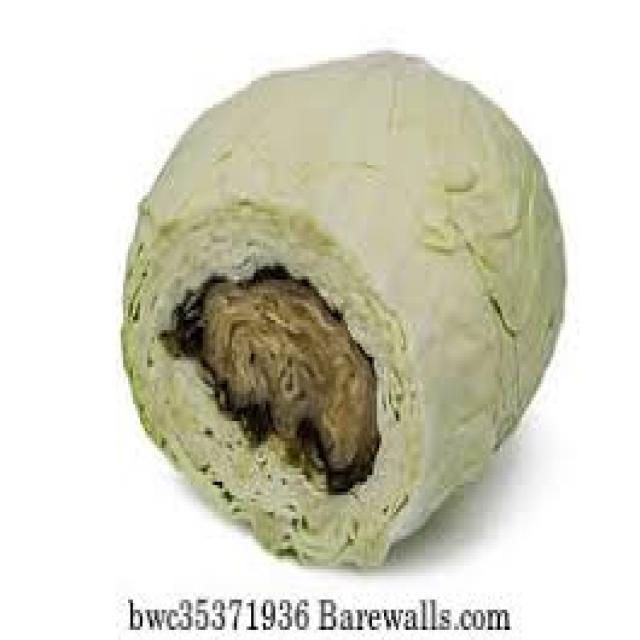organic waste: (118, 47, 563, 566)
